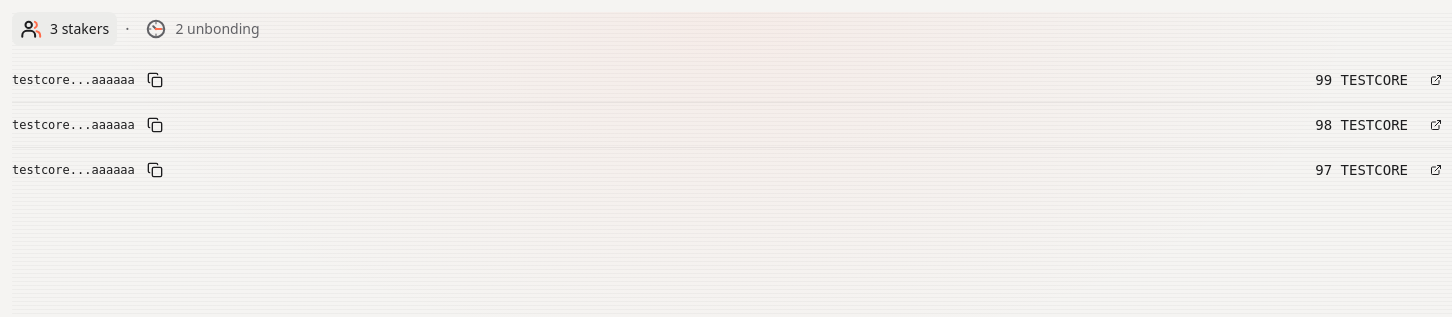
Test: ValidatorDelegatorsCard unbonding tab: P1 › stays reachable and shows the total and the table
Radix tabs switch on mousedown
Press the mouse on the tab "2 unbonding" at (202, 29), box [137,12,268,46]
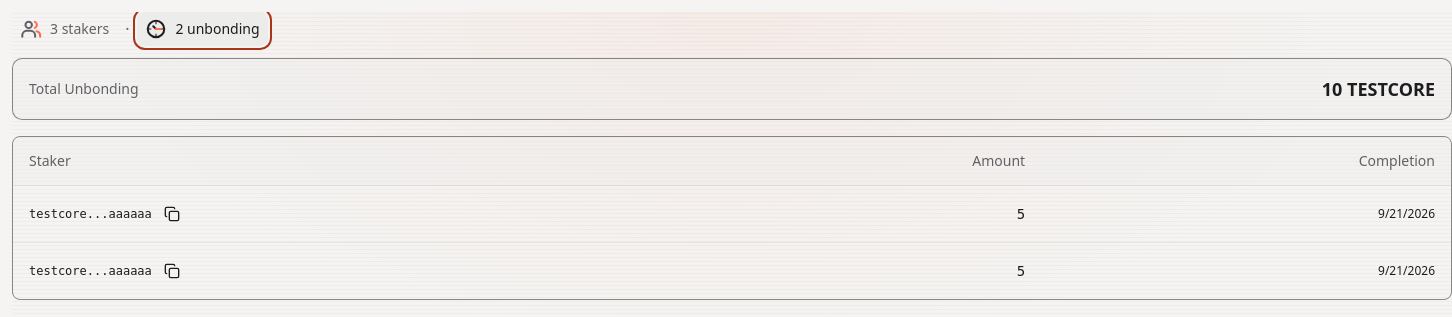
Expected: the text "Total Unbonding" is shown, [29,79,138,99]
Expected: the text "10 TESTCORE" is shown, [1322,75,1435,103]
Expected: the column heading "Completion" is shown, [1041,137,1451,185]
